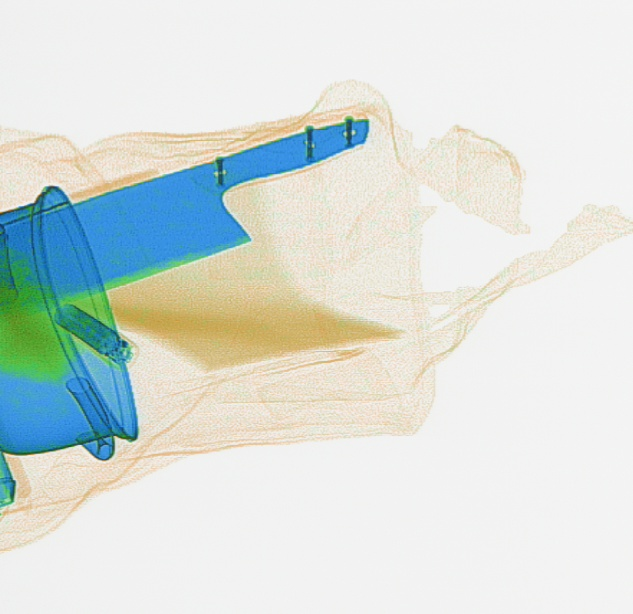knife: (6, 115, 369, 315)
